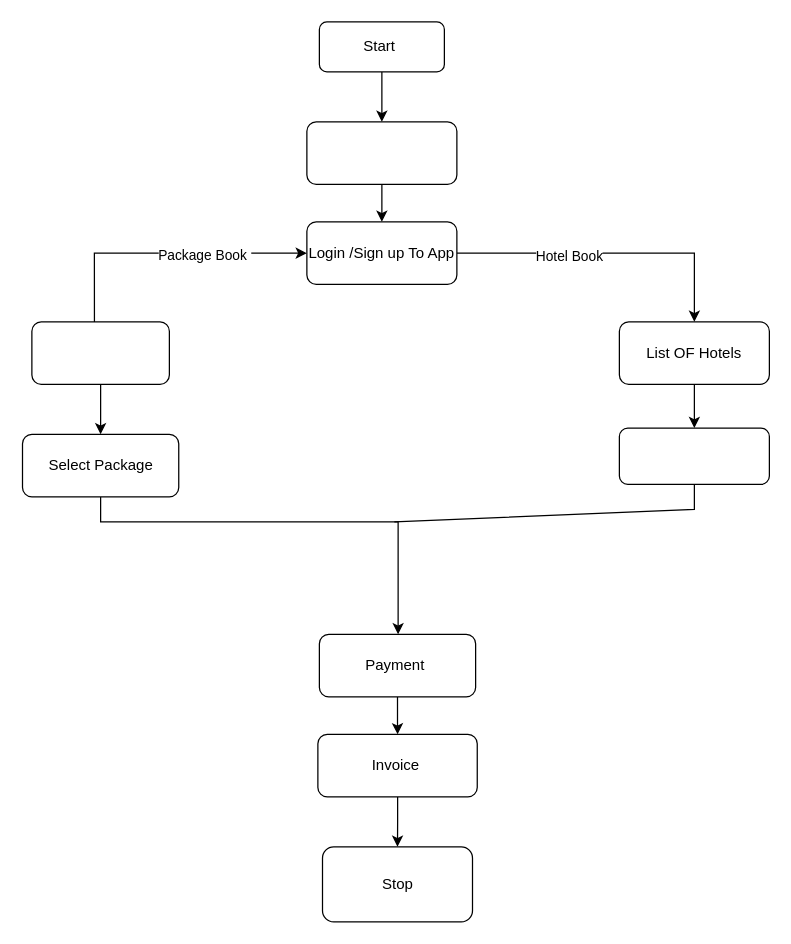
The diagram is 791 pixels wide and 944 high, and some of its shapes have lost their labels. The centre of each missing label's shape, as x and y in pixels:
"List of Packages" goes at point (100, 352).
"Select Hotel" goes at point (693, 455).
"User" goes at point (381, 152).
